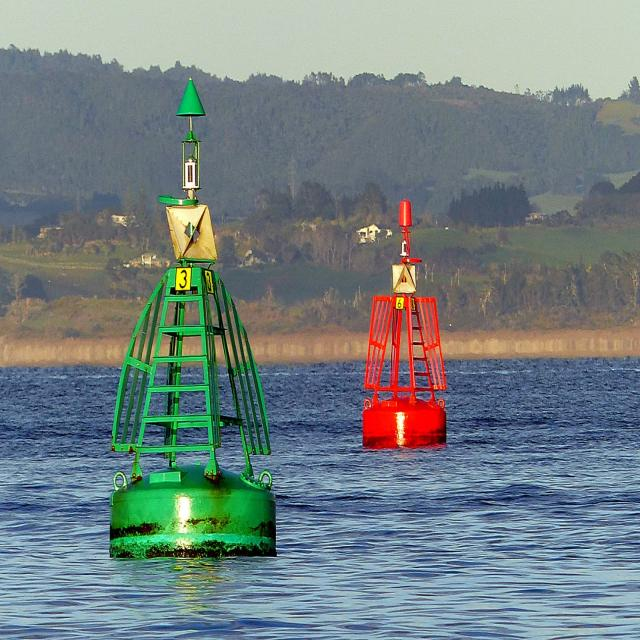2.1 lateral mark -P-: (317, 172, 481, 469)
2.1 lateral mark -S-: (94, 49, 295, 583)
